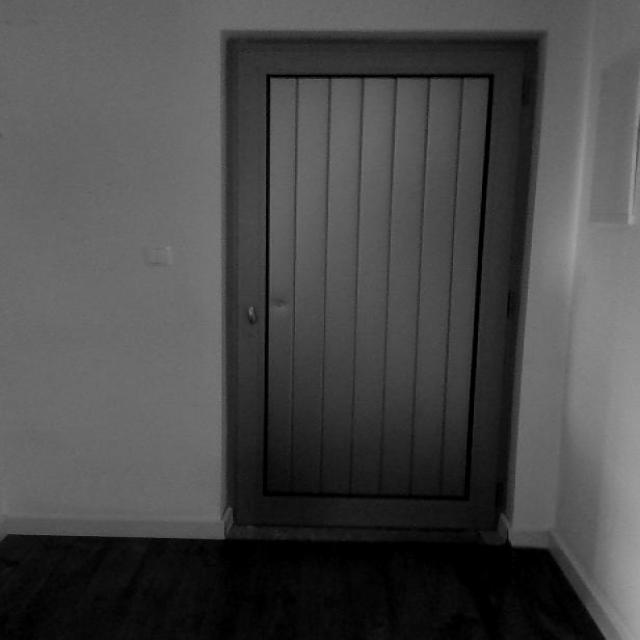door: (224, 35, 533, 537)
